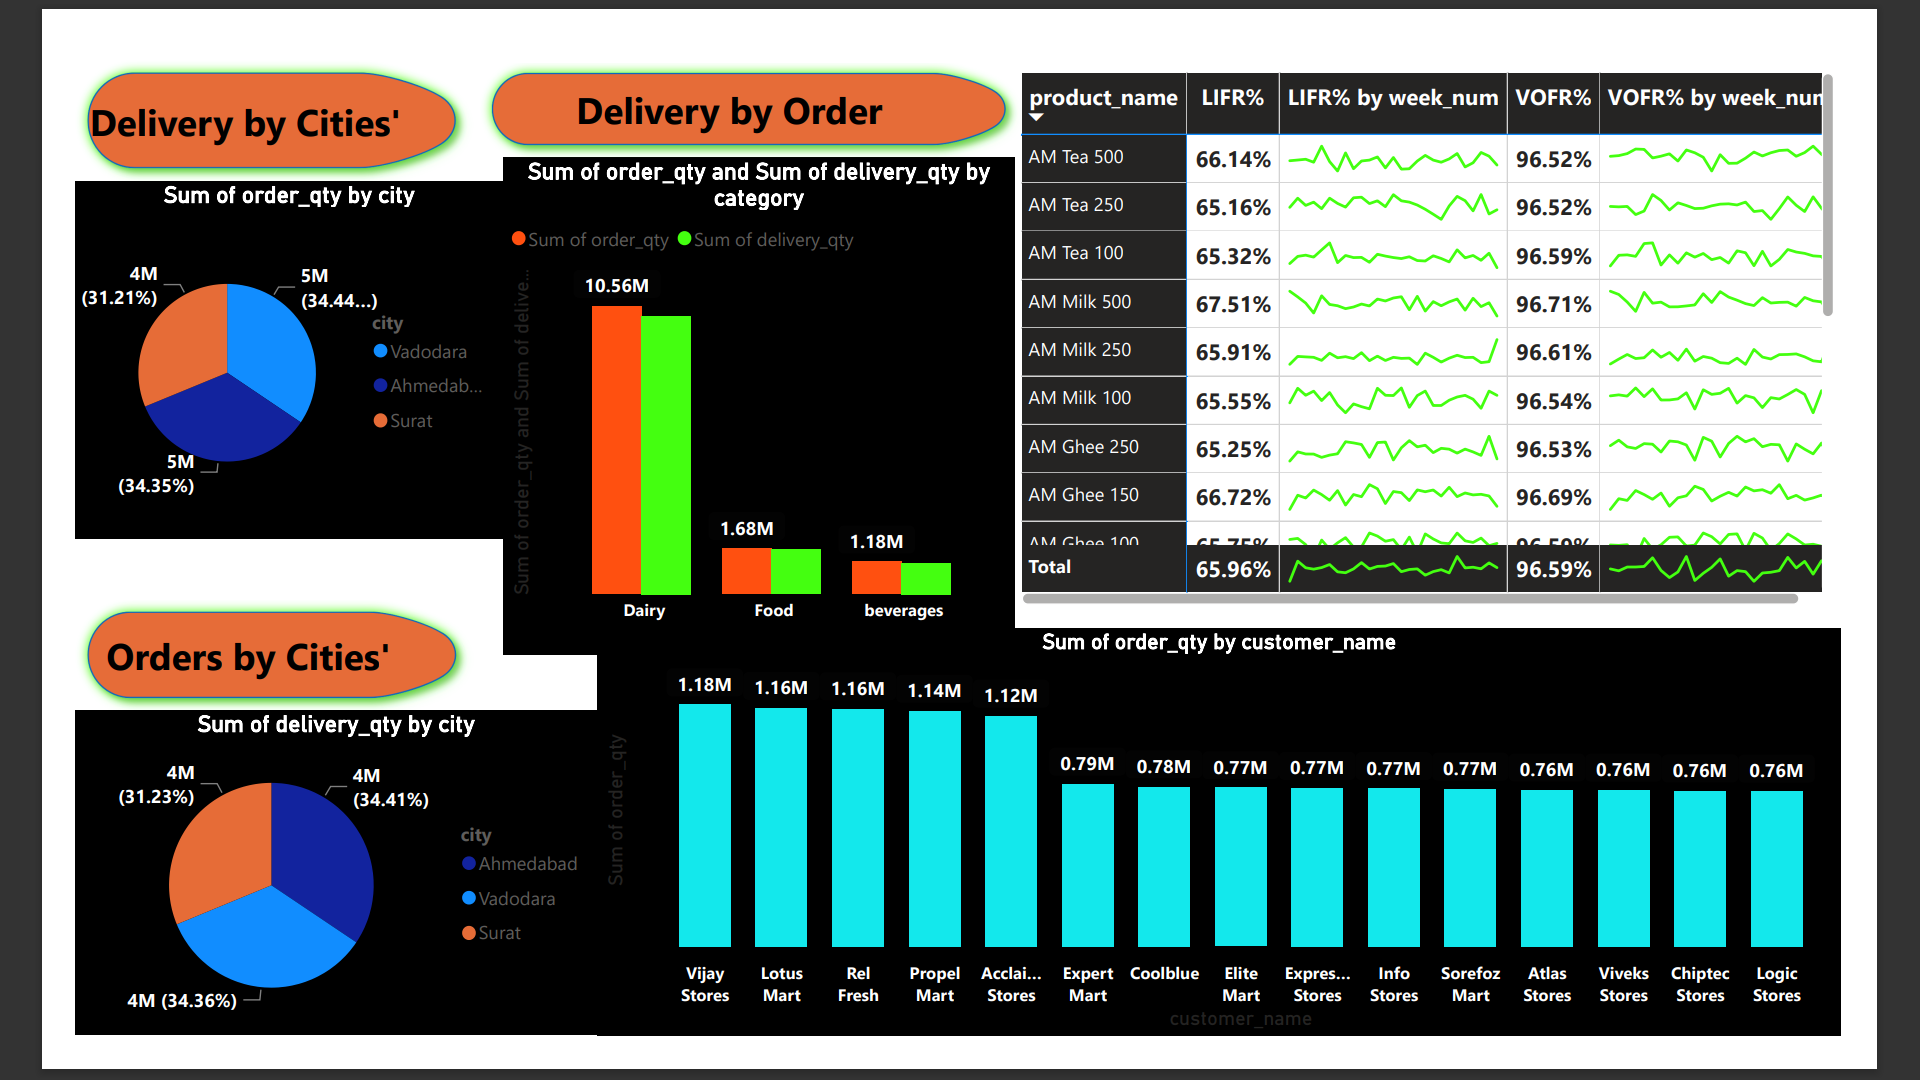

The dashboard page shown, as its layout file describes it:
{"tool":"powerbi","page":{"name":"Page 3","canvas":[1280,720],"ordinal":1},"visuals":[{"type":"pivotTable","fields":{"Rows":["dim_products.product_name"],"Values":["fact_order_lines.LIFR%","SparklineData(fact_order_lines.LIFR%_[fact_order_lines.week_num])","fact_order_lines.VOFR%","SparklineData(fact_order_lines.VOFR%_[fact_order_lines.week_num])"]},"box":[680,17.8,597.8,394.9],"z":0},{"type":"clusteredColumnChart","fields":{"Category":["dim_products.category"],"Y":["Sum(fact_order_lines.order_qty)","Sum(fact_order_lines.delivery_qty)"]},"box":[309.9,83.6,370.2,360.6],"z":1},{"type":"pieChart","fields":{"Y":["Sum(fact_order_lines.order_qty)"],"Category":["dim_customers.city"]},"box":[0,100.5,309.9,259.4],"z":2,"group":"g2"},{"type":"pieChart","fields":{"Y":["Sum(fact_order_lines.delivery_qty)"],"Category":["dim_customers.city"]},"box":[0,484,378.4,235.8],"z":3,"group":"g1"},{"type":"shape","box":[0,404.5,300.3,79.5],"z":1000,"group":"g1"},{"type":"shape","box":[0.4,13.7,300.3,87.5],"z":1001,"group":"g2"},{"type":"shape","box":[293.4,13.7,401.7,69.9],"z":1001},{"type":"group","id":"g1","title":"Group 1","box":[0,404.5,378.4,315.3],"z":1002},{"type":"group","id":"g2","title":"Group 2","box":[0,13.7,309.9,346.9],"z":1003},{"type":"clusteredColumnChart","fields":{"Category":["dim_customers.customer_name"],"Y":["Sum(fact_order_lines.order_qty)"]},"box":[378.4,425,899.4,294.8],"z":1005}]}

Visuals, with their boxes in screenshot pixels (x1, y1, x2, y2), scaled from the page's 1280x720 canvas onto the 1920x1080 screenshot:
pivotTable - dim_products.product_name x fact_order_lines.LIFR%: bbox=(1020, 27, 1917, 619)
clusteredColumnChart - dim_products.category x Sum(fact_order_lines.order_qty): bbox=(465, 125, 1020, 666)
pieChart - Sum(fact_order_lines.order_qty) x dim_customers.city: bbox=(0, 151, 465, 540)
pieChart - Sum(fact_order_lines.delivery_qty) x dim_customers.city: bbox=(0, 726, 568, 1079)
shape: bbox=(0, 607, 450, 726)
shape: bbox=(1, 21, 451, 152)
shape: bbox=(440, 21, 1043, 125)
"Group 1" group: bbox=(0, 607, 568, 1079)
"Group 2" group: bbox=(0, 21, 465, 541)
clusteredColumnChart - dim_customers.customer_name x Sum(fact_order_lines.order_qty): bbox=(568, 638, 1917, 1079)
